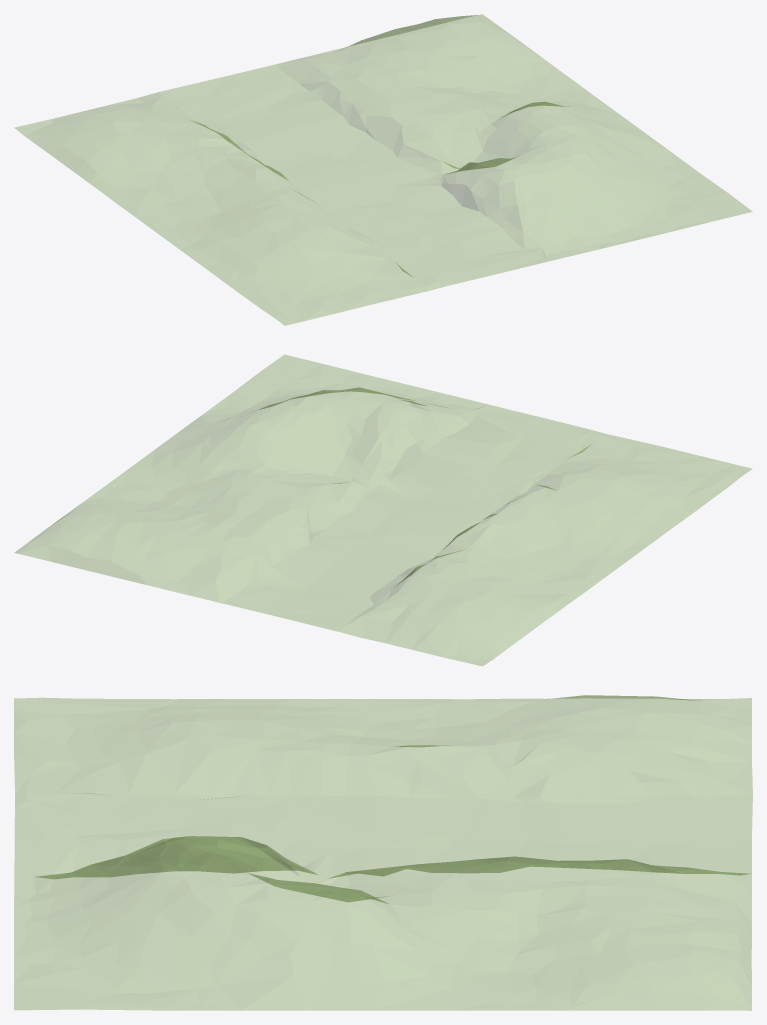
File: terrain.fbx
3 views of the same model, one above another, from view 1: azimuth 30°, elevation 25°; view 2: azimuth 150°, elevation 25°; view 3: azimuth 270°, elevation 25° (orthographic). The views are drawn at different scales.
Visible parts, largest first — view 1: Terrain_2; view 2: Terrain_2; view 3: Terrain_2.
Part boxes in pixels (x1=…): Terrain_2: x1=15, y1=14, x2=752, y2=325; Terrain_2: x1=14, y1=355, x2=751, y2=665; Terrain_2: x1=14, y1=695, x2=752, y2=1010.
Bounding box in the file's own units: 2001 × 184 × 2003.
